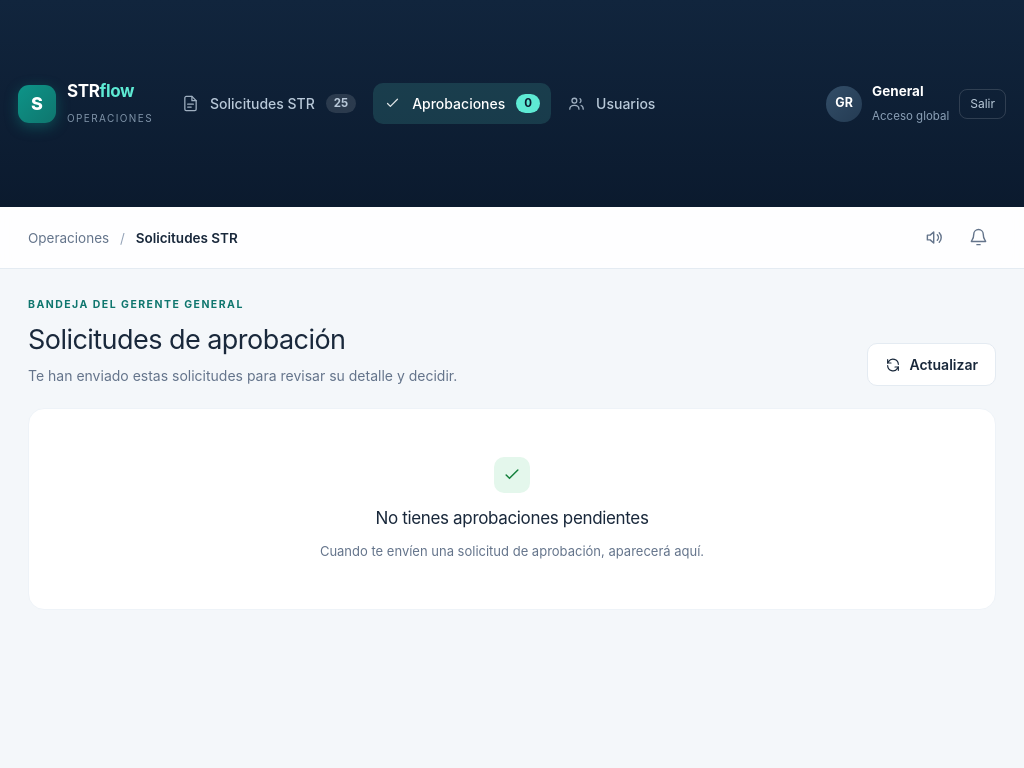
Test case: paginación de la tabla › confirma la eliminación con un diálogo de la aplicación
The width and height of the screenshot is (1024, 768).
Click the link "Usuarios" at (612, 104), box [568, 95, 655, 112]
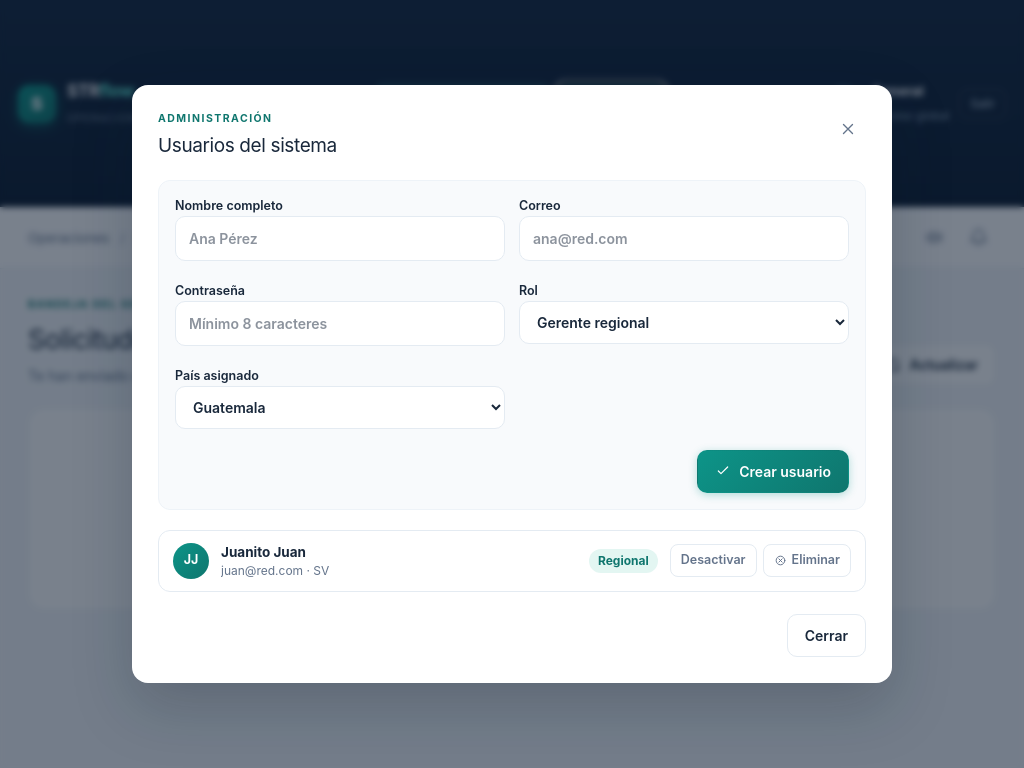
expect the heading "Usuarios del sistema" is shown: met, box [158, 132, 337, 160]
expect the text "juan@red.com · SV" is shown: met, box [221, 563, 329, 578]
Click the button "Eliminar" at (807, 561), box [763, 544, 851, 577]
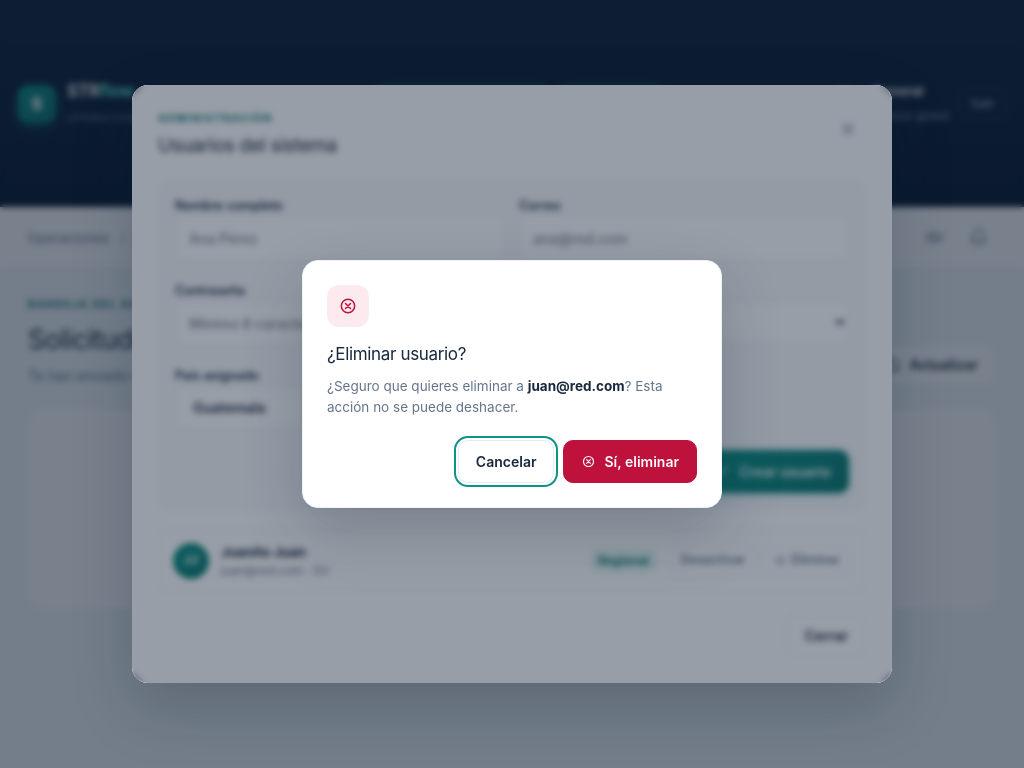
expect the text "¿Seguro que quieres eliminar a" is shown: met, box [327, 378, 528, 394]
expect the text "juan@red.com" is shown: met, box [528, 378, 624, 394]
Click the button "Cancelar" at (506, 461), box [458, 440, 554, 483]
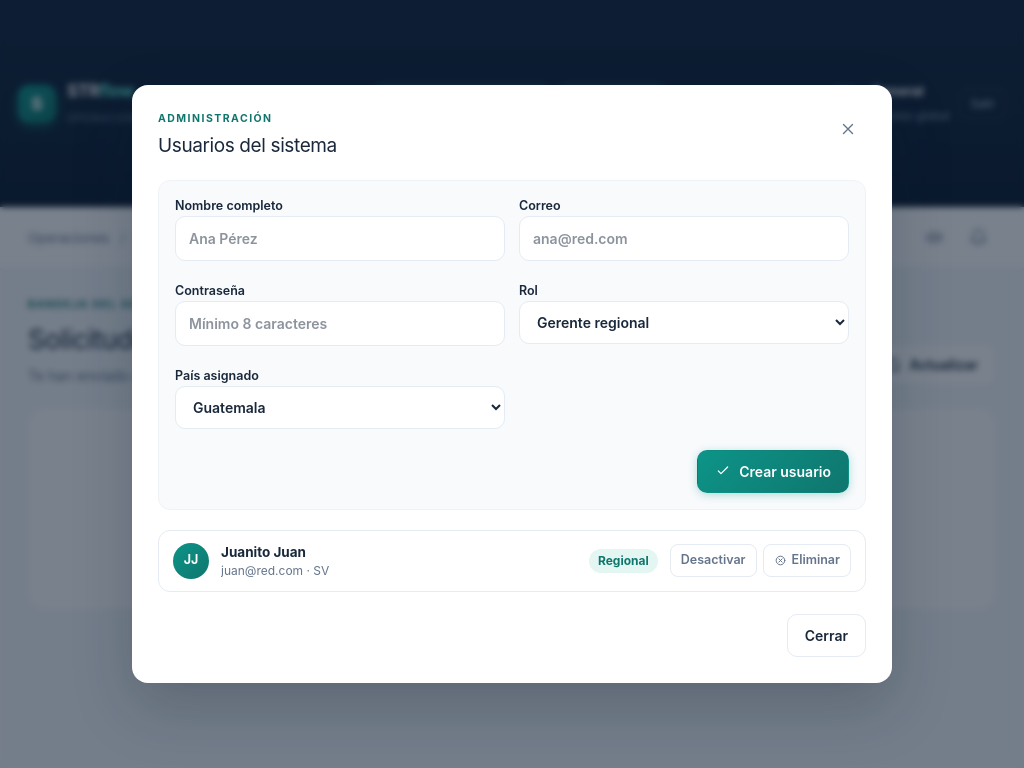
Click the button "Eliminar" at (807, 561), box [763, 544, 851, 577]
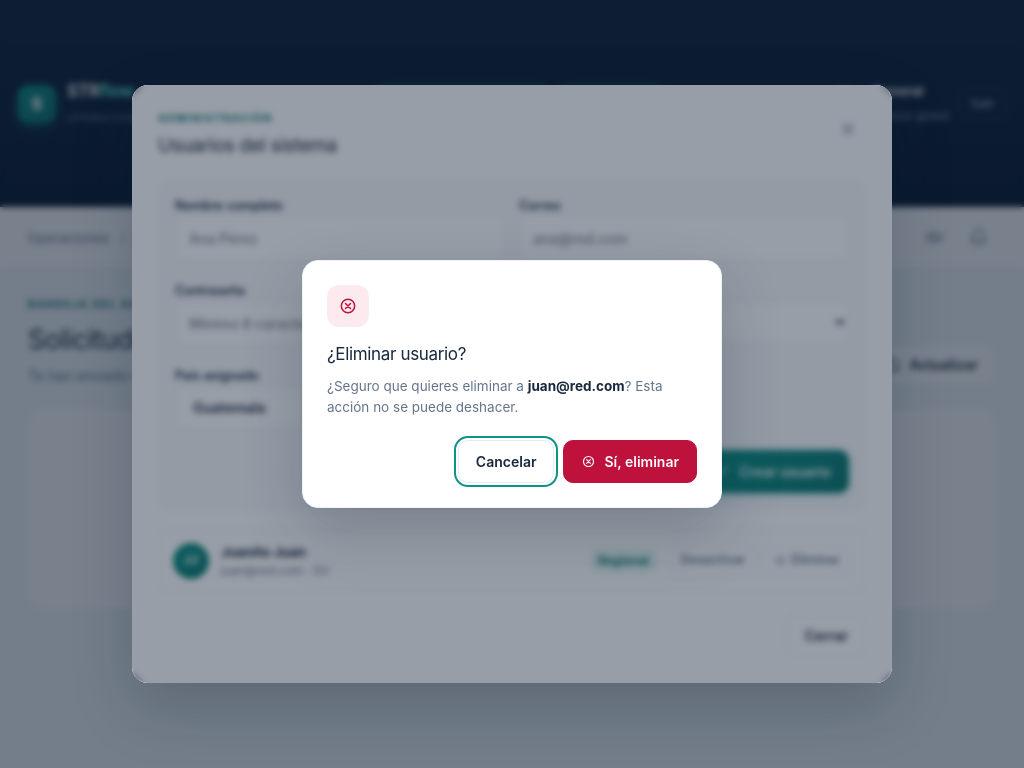
Click the button "Sí, eliminar" at (630, 461), box [564, 440, 697, 483]
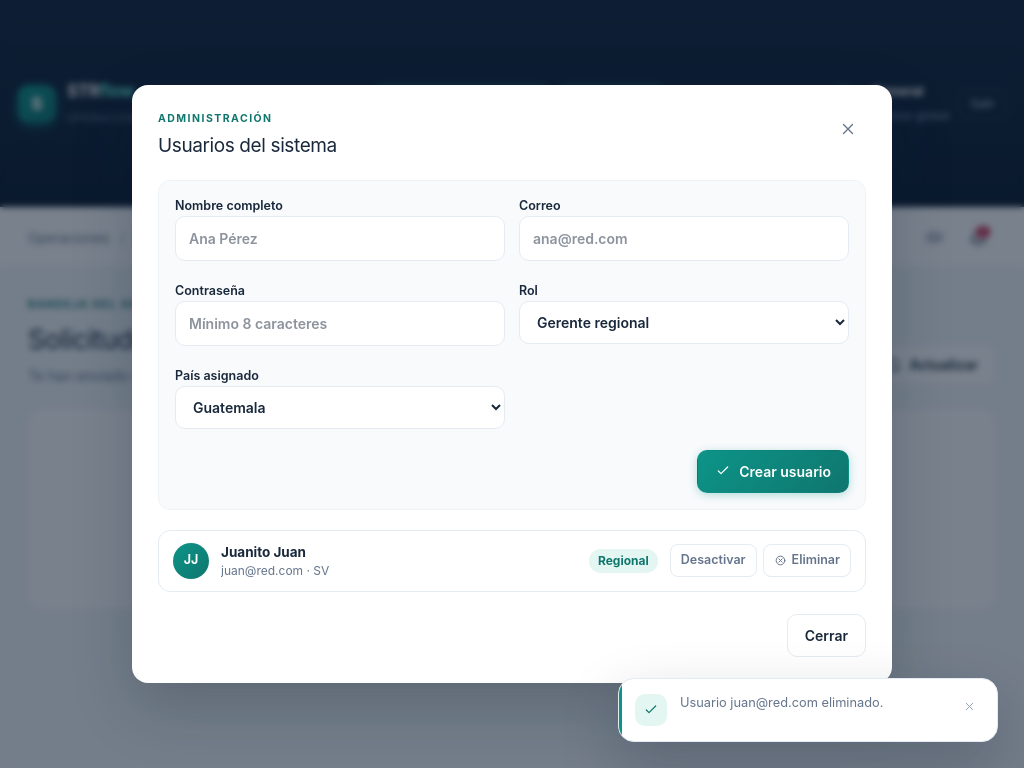
expect the text "Usuario juan@red.com eliminado." is shown: met, box [680, 695, 883, 710]
